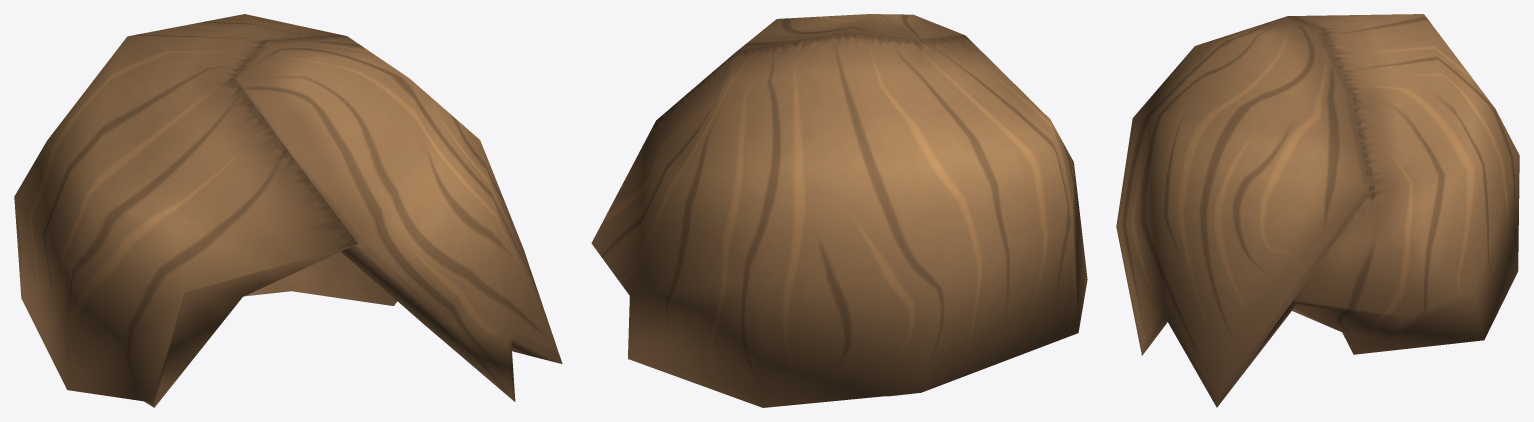
Rendered from Hair_EmoLike.FBX.
The picture shows the model from 3 angles, left to right: view 1: azimuth 30°, elevation 25°; view 2: azimuth 150°, elevation 25°; view 3: azimuth 270°, elevation 25°; orthographic projection. The views are drawn at different scales.
Parts seen in each view (by area): view 1: Hair_EmoLike; view 2: Hair_EmoLike; view 3: Hair_EmoLike.
Boxes of the visible parts, bbox=[...] form: Hair_EmoLike: bbox=[14, 14, 562, 407]; Hair_EmoLike: bbox=[591, 14, 1087, 407]; Hair_EmoLike: bbox=[1116, 14, 1519, 407].
Size of the model in its own units: 316 by 221 by 286.
1 material, 1 textured.
